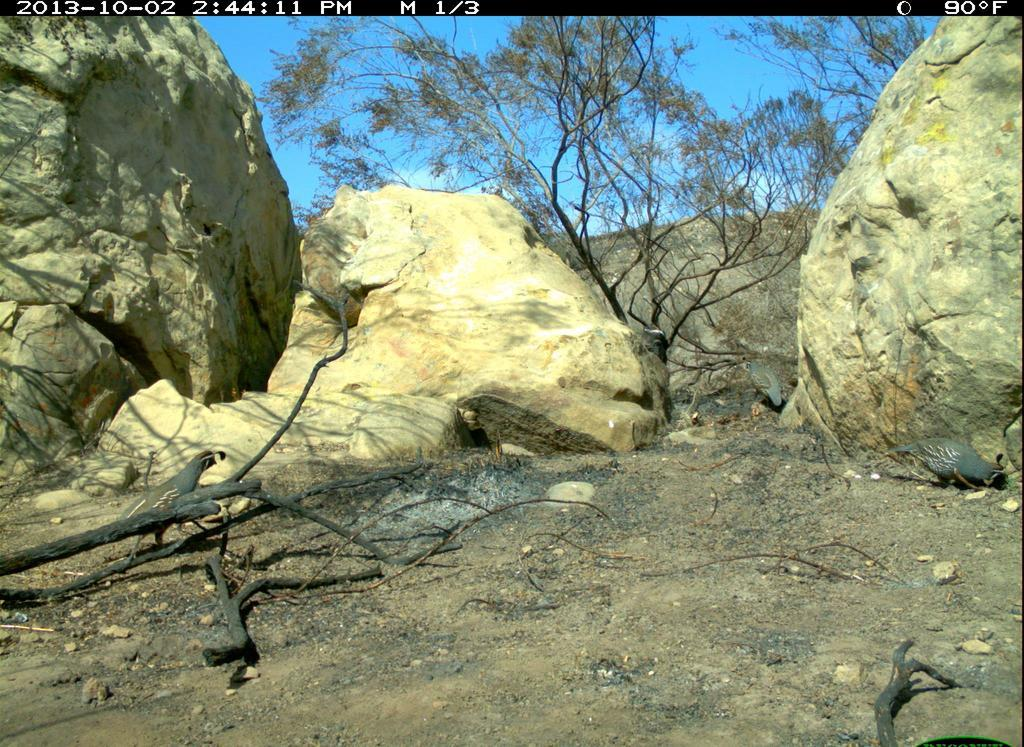bird: (103, 447, 231, 569), (885, 420, 1008, 514), (736, 353, 796, 416)
